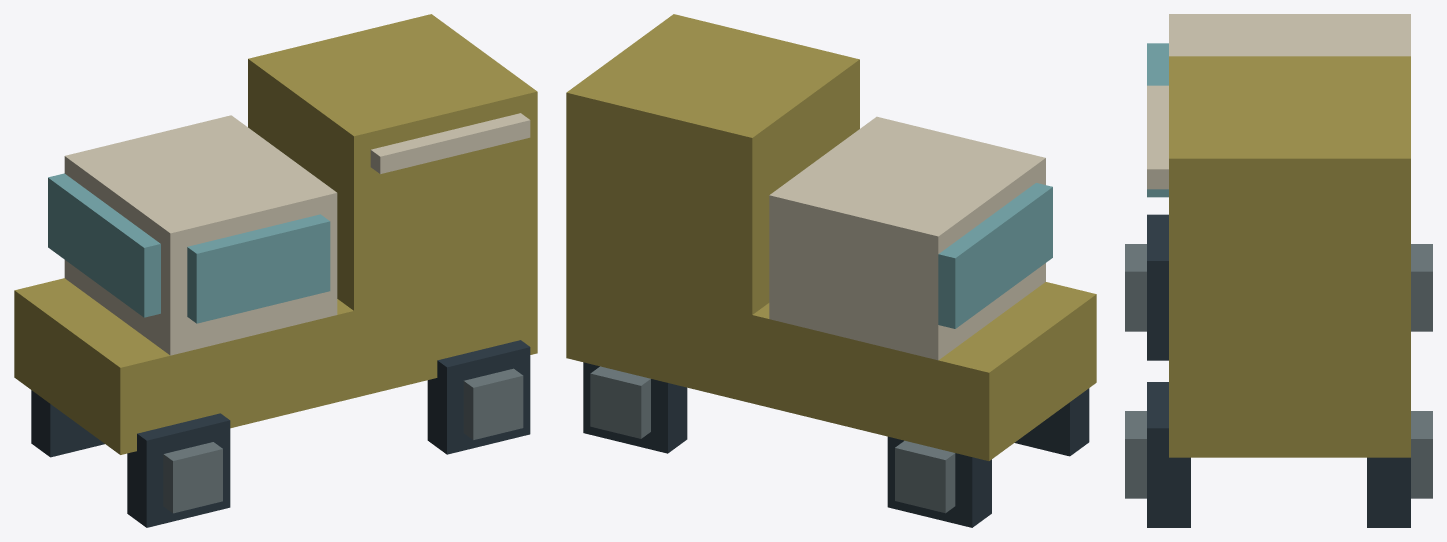
File: energy-16.glb
The picture shows the model from 3 angles, left to right: view 1: azimuth 30°, elevation 25°; view 2: azimuth 150°, elevation 25°; view 3: azimuth 270°, elevation 25°; orthographic projection. The views are drawn at different scales.
Parts seen in each view (by area): view 1: Service truck; view 2: Service truck; view 3: Service truck.
Boxes of the visible parts, x1,y1,x2,y2 form: Service truck: (14, 14, 537, 527); Service truck: (566, 14, 1096, 527); Service truck: (1125, 14, 1432, 527).
Bounding box in the file's own units: 2 × 1.52 × 1.12.
